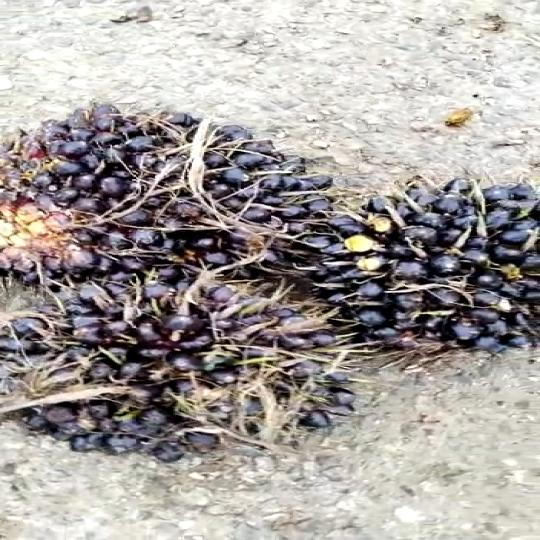mentah: (0, 270, 400, 482), (0, 102, 347, 305), (301, 153, 538, 370)
